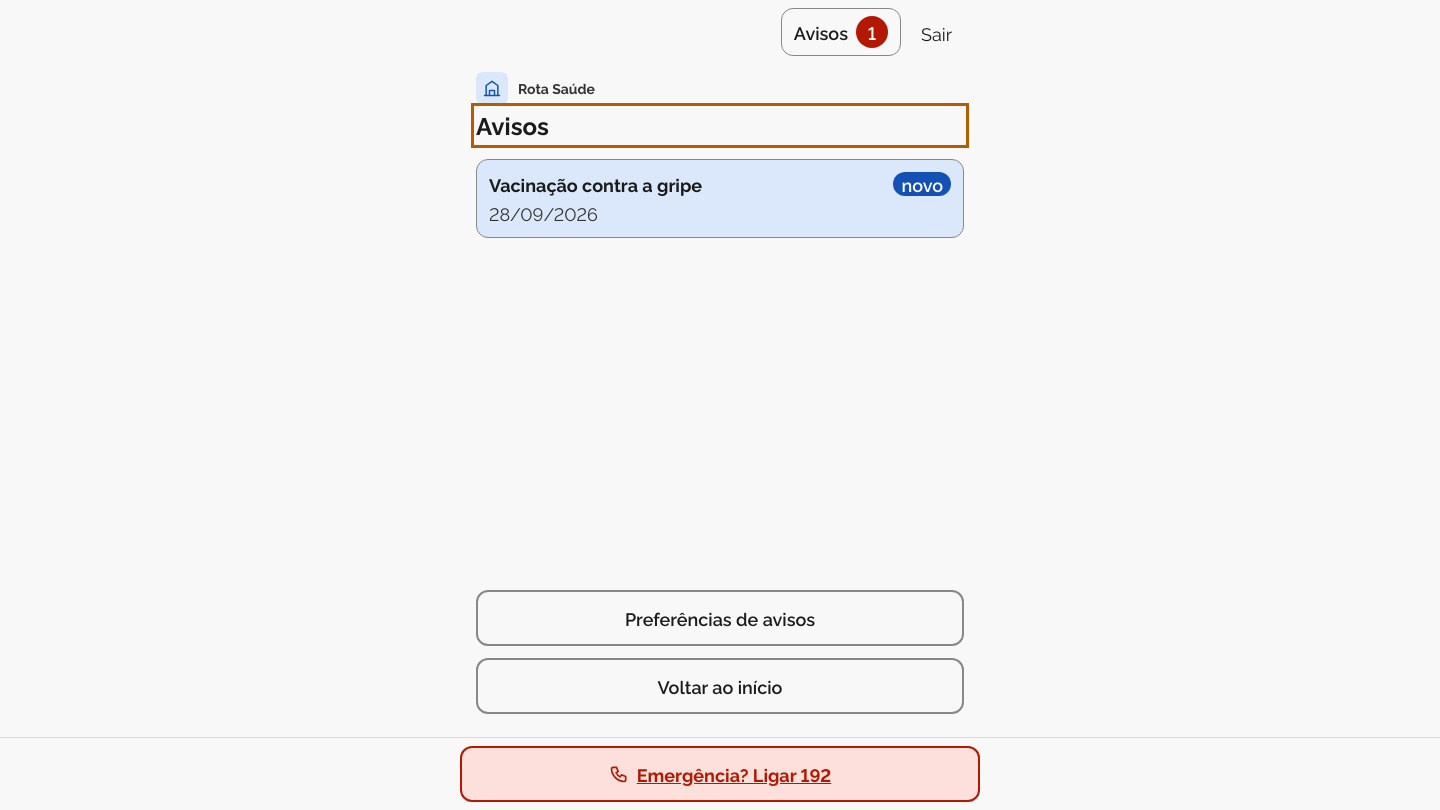
Flow — link do SMS (/avisos) › com sessão: abre a caixa direto; 'Voltar ao início' leva ao termo e a URL volta à base
Expected: the heading "Avisos" is shown, x1=476 y1=108 x2=549 y2=141
What coordinates should you click on to do the following:
click the button "Voltar ao início"
I would click on:
 (720, 686)
Its box is x1=476 y1=658 x2=964 y2=714.
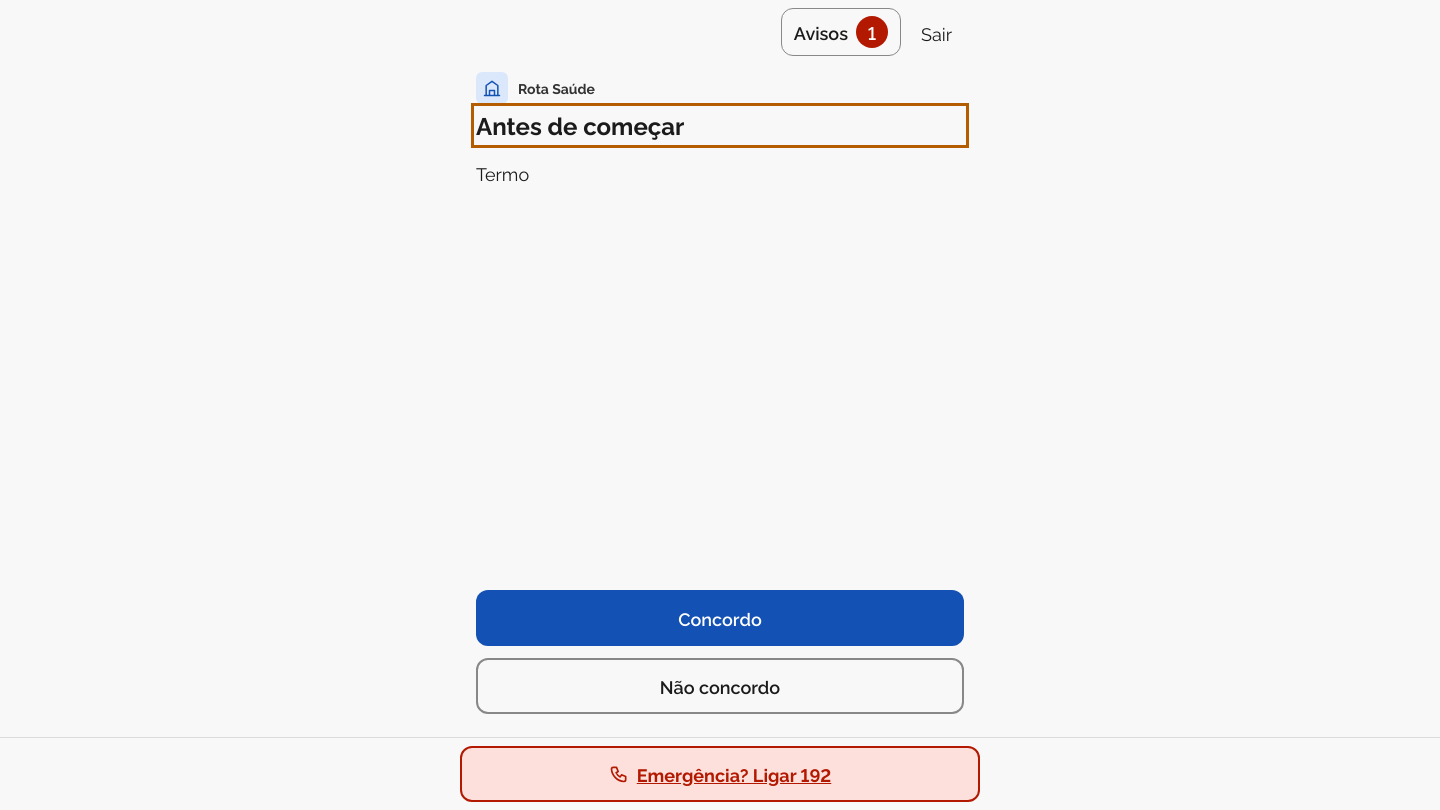
Result: the button "Concordo" is shown at x1=476 y1=590 x2=964 y2=646
